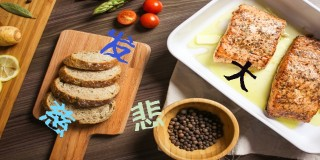发: (100, 28, 134, 63)
大: (224, 59, 257, 92)
悲: (131, 99, 164, 131)
慈: (38, 100, 75, 139)
